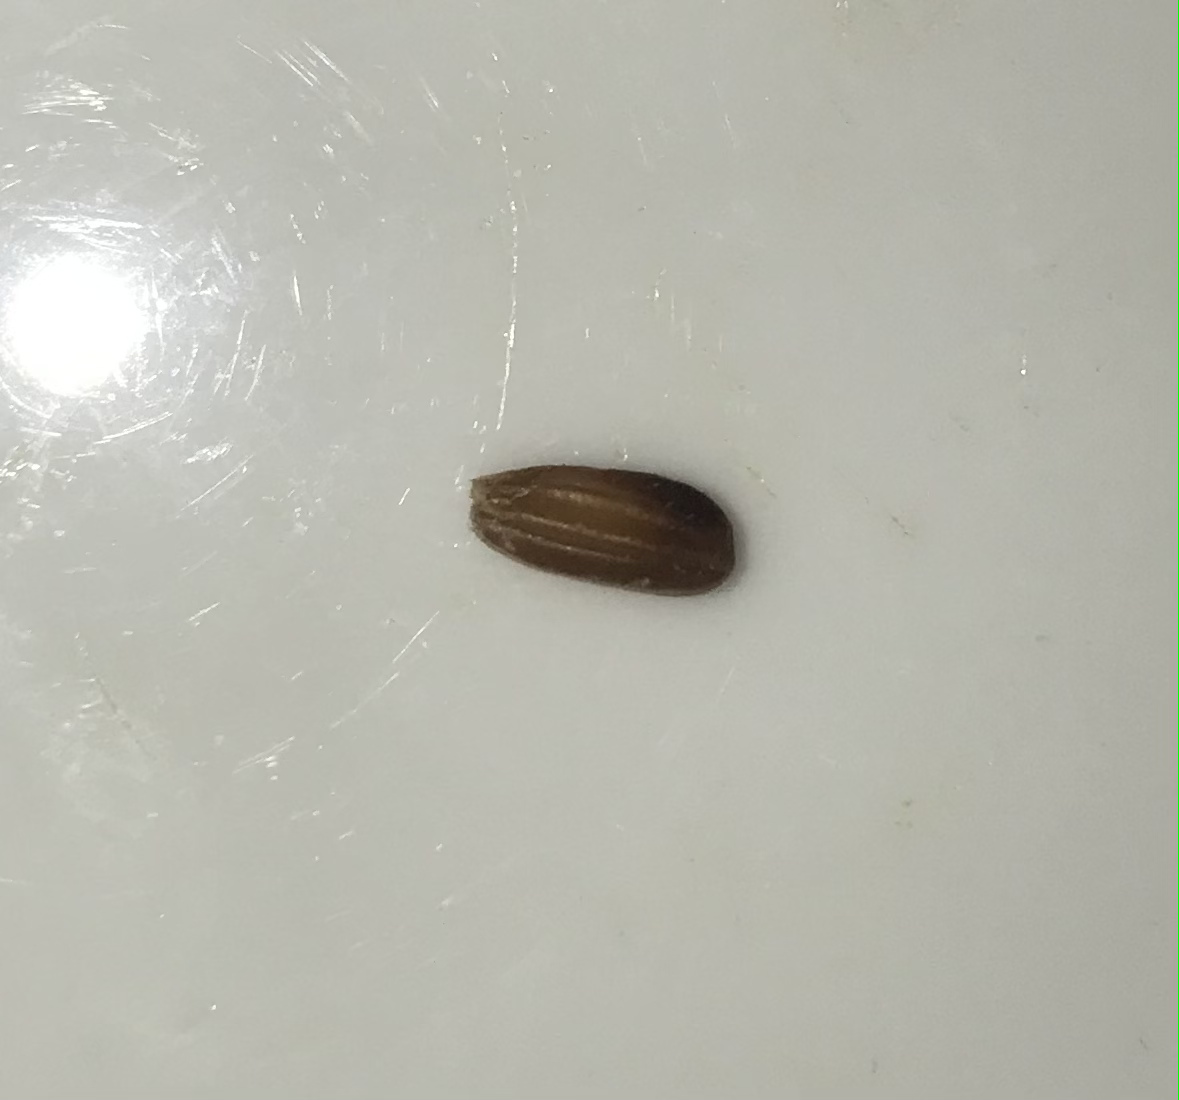Gao Lut Do: (485, 434, 744, 627)
